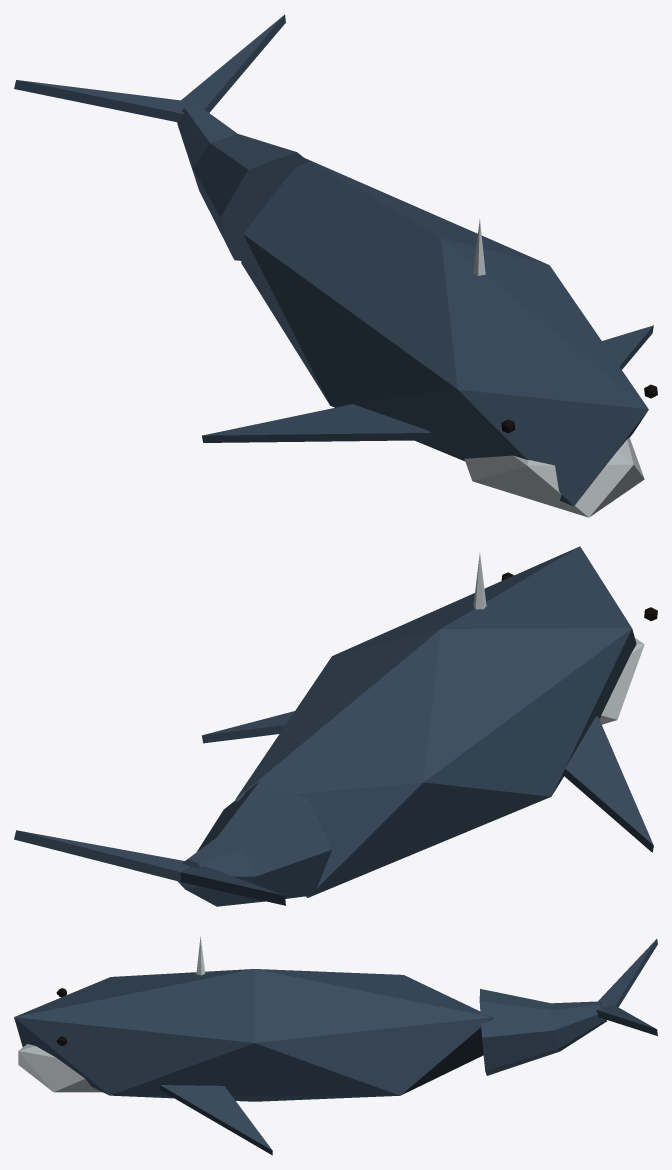
File: animal_whale.glb
The picture shows the model from 3 angles, top to bottom: view 1: azimuth 30°, elevation 25°; view 2: azimuth 150°, elevation 25°; view 3: azimuth 270°, elevation 25°; orthographic projection. The views are drawn at different scales.
Visible parts, largest first — view 1: animal_whale; view 2: animal_whale; view 3: animal_whale.
Boxes of the visible parts, <box> form: animal_whale: <box>14,14,657,517</box>; animal_whale: <box>14,546,657,906</box>; animal_whale: <box>14,937,657,1155</box>.
Bounding box in the file's own units: 6.02 × 3.06 × 10.71.
